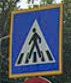trecere_pietoni: (9, 3, 65, 80)
